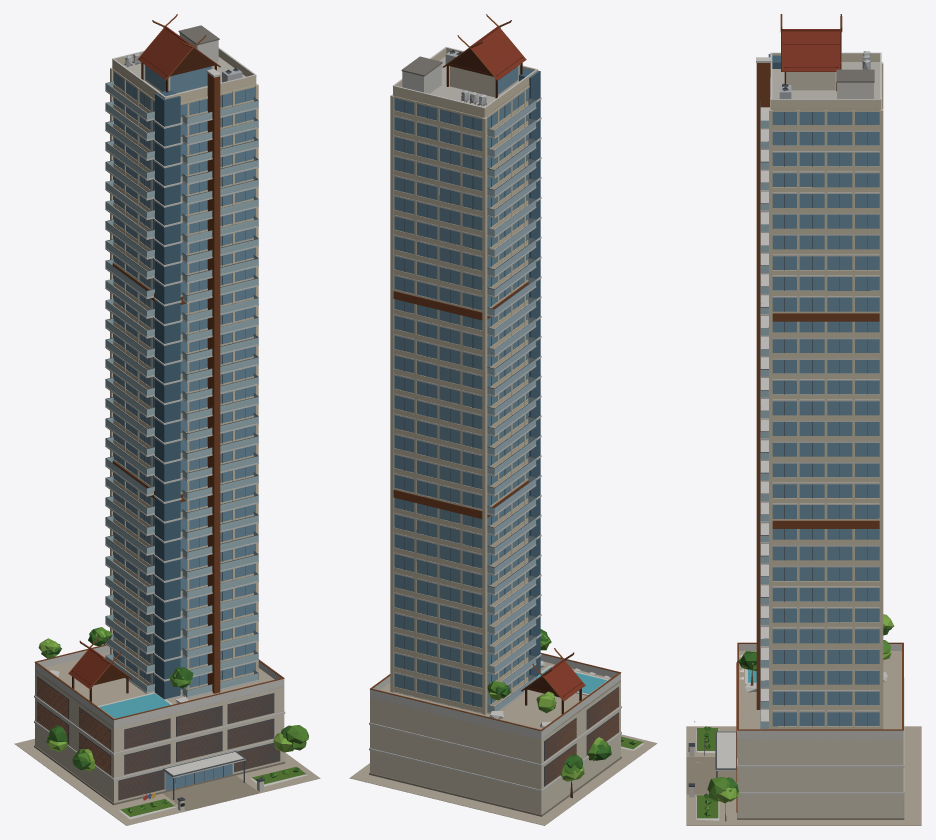
File: home_5.glb
3 views of the same model, side by side, from view 1: azimuth 30°, elevation 25°; view 2: azimuth 150°, elevation 25°; view 3: azimuth 270°, elevation 25° (orthographic). The views are drawn at different scales.
Visible parts, largest first — view 1: body; view 2: body; view 3: body.
Boxes of the visible parts, x1,y1,x2,y2 form: body: (14, 14, 320, 825); body: (349, 14, 657, 825); body: (686, 14, 921, 825).
Size of the model in its own units: 33.07 by 114 by 31.89.
